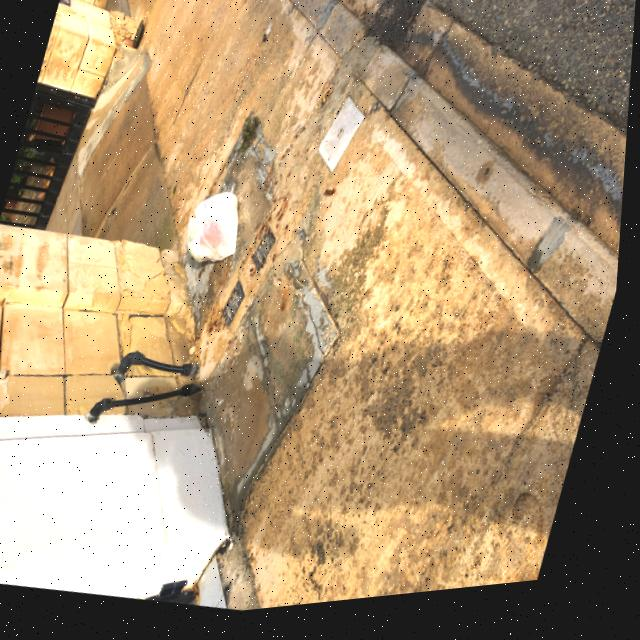Organic Waste -White Bag-: (175, 183, 259, 281)
